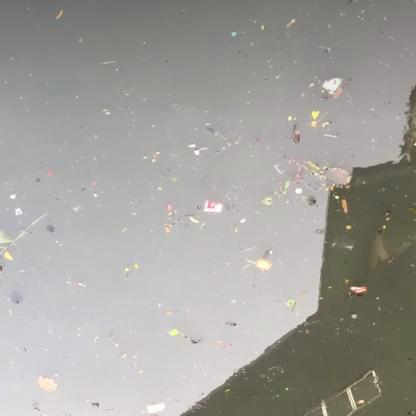Metal: (202, 198, 226, 216)
Trash: (348, 282, 368, 297)
